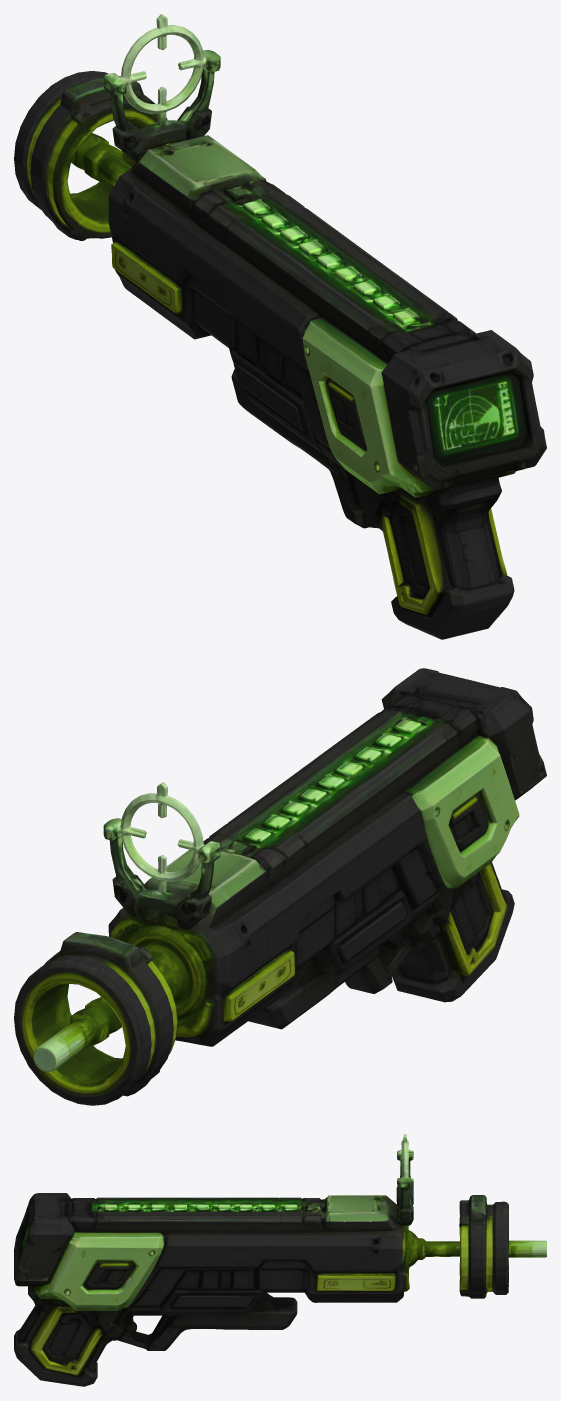
File: scangun.glb
The picture shows the model from 3 angles, top to bottom: view 1: azimuth 30°, elevation 25°; view 2: azimuth 150°, elevation 25°; view 3: azimuth 270°, elevation 25°; orthographic projection. The views are drawn at different scales.
Visible parts, largest first — view 1: material; view 2: material; view 3: material.
Boxes of the visible parts, <box> form: material: <box>14,14,546,639</box>; material: <box>14,668,546,1105</box>; material: <box>14,1134,546,1386</box>.
Size of the model in its own units: 0.1945 by 0.573 by 1.13.
1 material, 1 textured.
